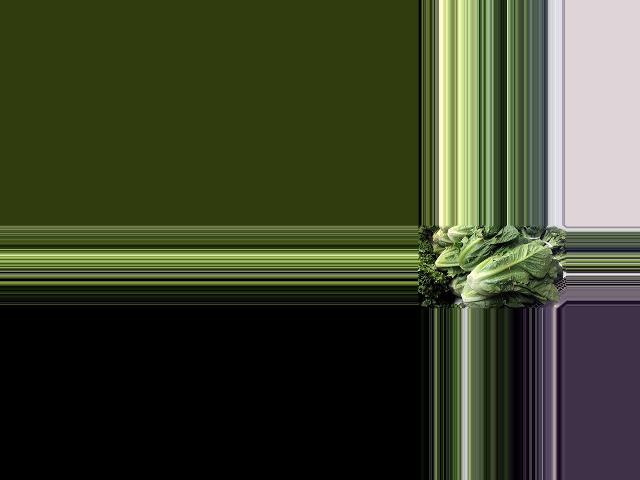lettuce: (455, 228, 521, 269)
